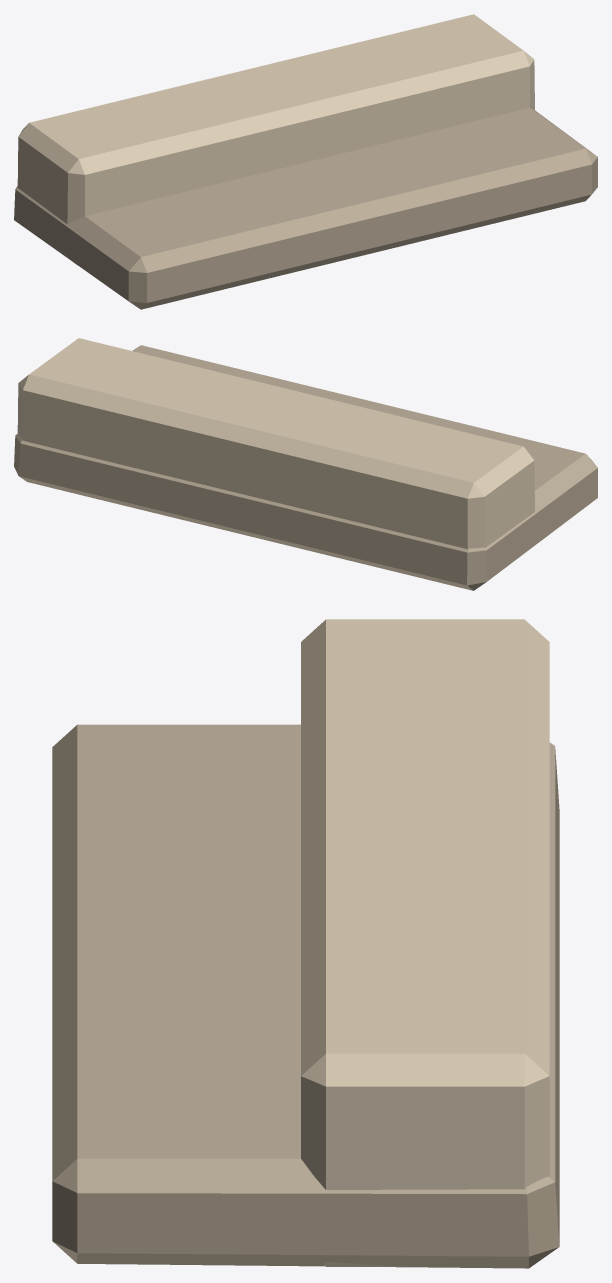
File: entry_step.glb
The picture shows the model from 3 angles, top to bottom: view 1: azimuth 30°, elevation 25°; view 2: azimuth 150°, elevation 25°; view 3: azimuth 270°, elevation 25°; orthographic projection. The views are drawn at different scales.
Parts seen in each view (by area): view 1: entry_step; view 2: entry_step; view 3: entry_step.
Part boxes in pixels (x1,y1,x2,y2): entry_step: (14,14,597,309); entry_step: (14,338,597,590); entry_step: (52,619,559,1268).
Bounding box in the file's own units: 1.32 × 0.2851 × 0.612.
